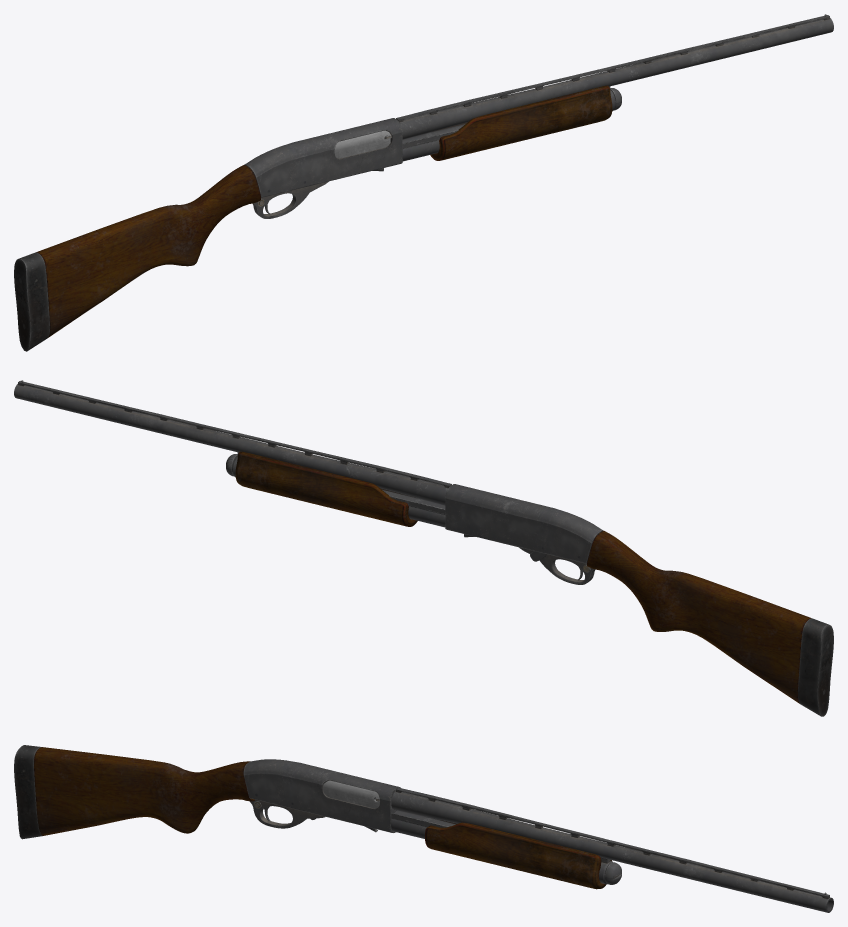
Rendered from remington_870_shotgun.glb.
3 renders of one model, top to bottom at view 1: azimuth 30°, elevation 25°; view 2: azimuth 150°, elevation 25°; view 3: azimuth 330°, elevation 25°, orthographic.
Parts seen in each view (by area): view 1: Stock_low, Barrel_low, Frame_low, Pump_low, StockEnd_low, Slide_low, ShellStorage_low; view 2: Stock_low, Barrel_low, Frame_low, Pump_low, StockEnd_low, ShellStorage_low; view 3: Stock_low, Barrel_low, Frame_low, Pump_low, StockEnd_low, Slide_low, ShellStorage_low.
Boxes of the visible parts, left/top/right/bottom form: Stock_low: left=36, top=165, right=260, bottom=337; Barrel_low: left=390, top=15, right=833, bottom=141; Frame_low: left=244, top=118, right=402, bottom=218; Pump_low: left=430, top=85, right=612, bottom=160; StockEnd_low: left=14, top=252, right=49, bottom=351; Slide_low: left=334, top=130, right=390, bottom=158; ShellStorage_low: left=402, top=86, right=615, bottom=161; Stock_low: left=587, top=530, right=811, bottom=703; Barrel_low: left=14, top=381, right=451, bottom=505; Frame_low: left=445, top=484, right=603, bottom=584; Pump_low: left=235, top=451, right=417, bottom=526; StockEnd_low: left=798, top=618, right=833, bottom=716; ShellStorage_low: left=232, top=452, right=445, bottom=527; Stock_low: left=34, top=747, right=254, bottom=835; Barrel_low: left=391, top=787, right=833, bottom=912; Frame_low: left=243, top=759, right=400, bottom=832; Pump_low: left=425, top=820, right=612, bottom=889; StockEnd_low: left=14, top=745, right=42, bottom=839; Slide_low: left=323, top=780, right=379, bottom=808; ShellStorage_low: left=391, top=810, right=612, bottom=884.
Size of the model in its own units: 1.08 by 0.18 by 0.0439.
Materials: 1 (1 with a texture image).
